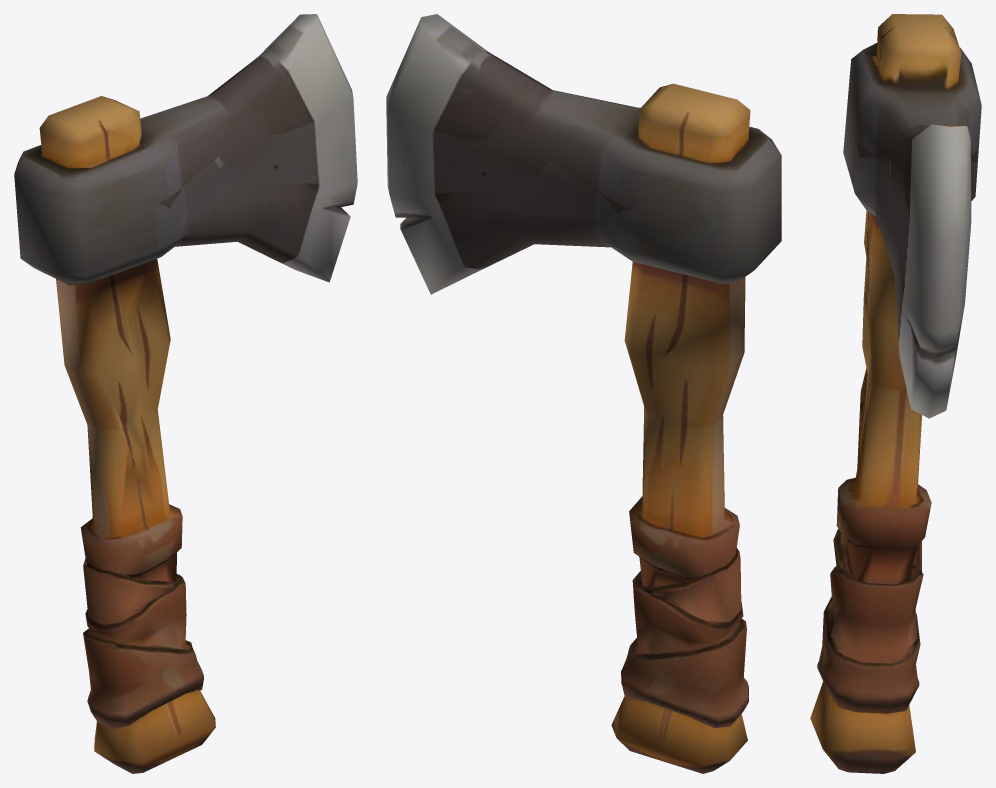
File: handaxe.glb
3 views of the same model, side by side, from view 1: azimuth 30°, elevation 25°; view 2: azimuth 150°, elevation 25°; view 3: azimuth 270°, elevation 25° (orthographic). The views are drawn at different scales.
Parts seen in each view (by area): view 1: tripo_node_a0fcc6ac-07b0-4266-8813-237f30312e4a; view 2: tripo_node_a0fcc6ac-07b0-4266-8813-237f30312e4a; view 3: tripo_node_a0fcc6ac-07b0-4266-8813-237f30312e4a.
Part boxes in pixels (x1,y1,x2,y2): tripo_node_a0fcc6ac-07b0-4266-8813-237f30312e4a: (14, 14, 357, 773); tripo_node_a0fcc6ac-07b0-4266-8813-237f30312e4a: (386, 14, 781, 773); tripo_node_a0fcc6ac-07b0-4266-8813-237f30312e4a: (810, 14, 981, 773).
Size of the model in its own units: 0.7757 by 1.45 by 0.3018.
Materials: 1 (1 with a texture image).
